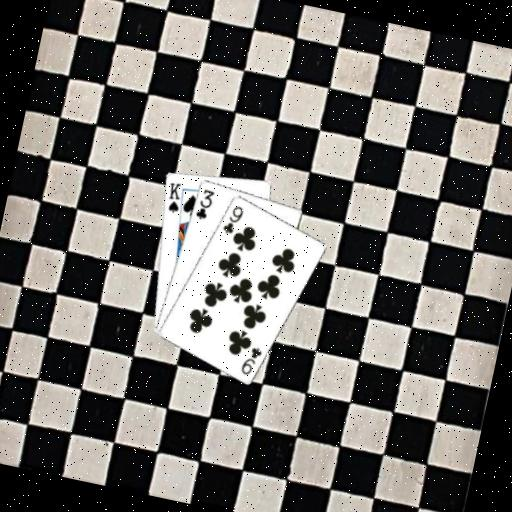3C: (191, 184, 216, 222)
9C: (236, 341, 264, 378), (219, 199, 246, 237)
KS: (160, 177, 185, 215)
